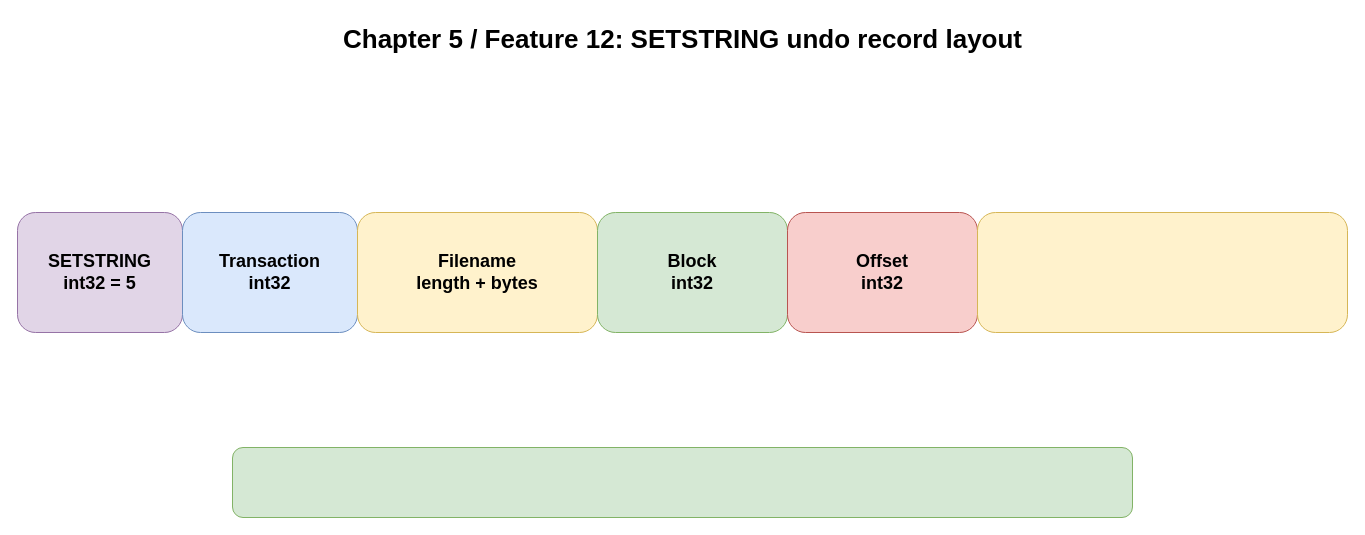
The diagram is 1365 pixels wide and 535 high, and some of its shapes have lost their labels. The shapes that lost their labels are listed below. From the top down, each one's centre as x and y in pixels, then its label:
At [1162,272]: "Old string length + bytes".
At [682,482]: "Exact size = 24 fixed bytes + filename bytes + old-value bytes".
